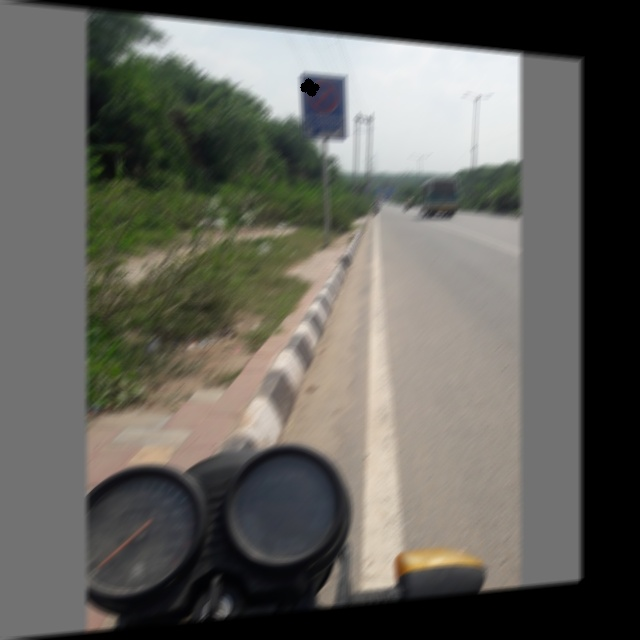No_Stopping_or_Standing: (301, 72, 343, 119)
